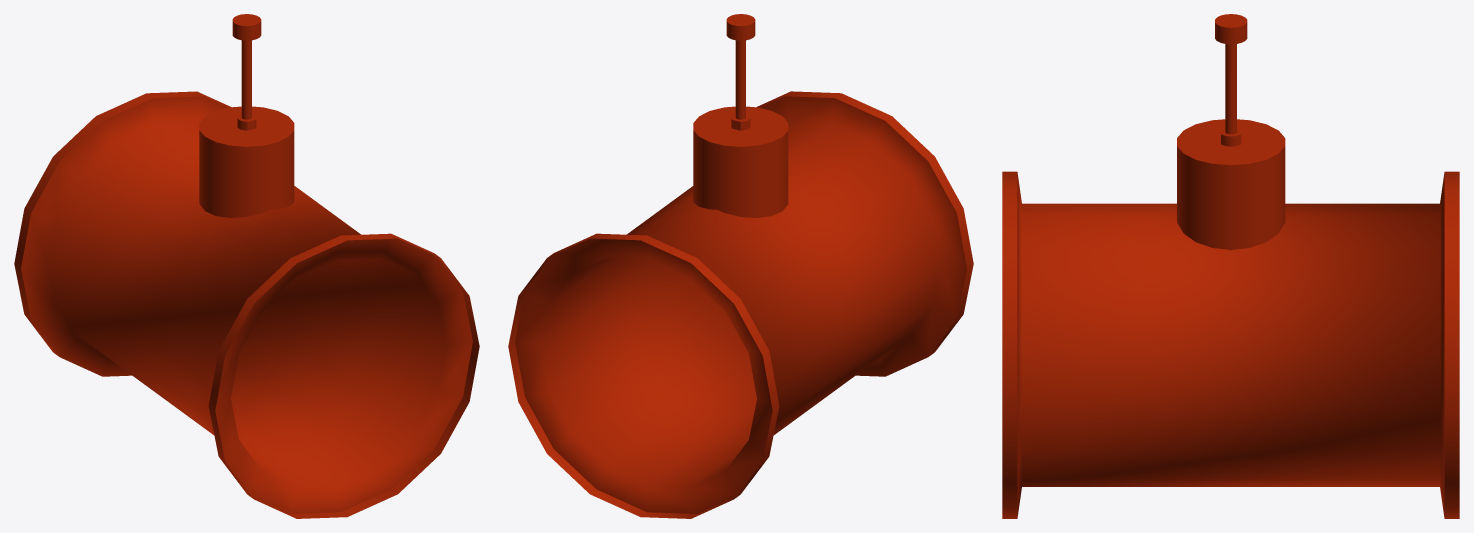
The model's file is PipeValve_01_LOD0.FBX.
The picture shows the model from 3 angles, left to right: view 1: azimuth 30°, elevation 25°; view 2: azimuth 150°, elevation 25°; view 3: azimuth 270°, elevation 25°; orthographic projection. The views are drawn at different scales.
Parts seen in each view (by area): view 1: PipeValve_up1_01_LOD0; view 2: PipeValve_up1_01_LOD0; view 3: PipeValve_up1_01_LOD0.
Part boxes in pixels (left/top/right/bottom): PipeValve_up1_01_LOD0: left=14, top=14, right=479, bottom=518; PipeValve_up1_01_LOD0: left=508, top=14, right=973, bottom=518; PipeValve_up1_01_LOD0: left=1002, top=14, right=1459, bottom=518.
Size of the model in its own units: 38 by 58.14 by 50.
